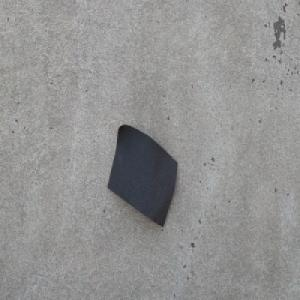PaintChip: (106, 123, 178, 228)
